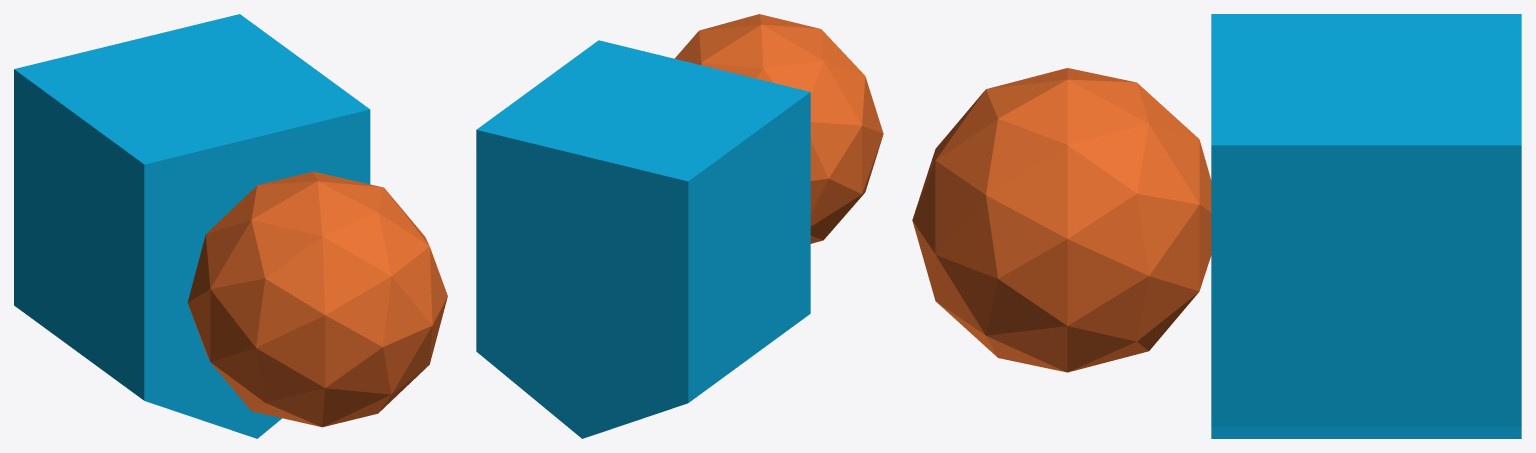
3 views of the same model, side by side, from view 1: azimuth 30°, elevation 25°; view 2: azimuth 150°, elevation 25°; view 3: azimuth 270°, elevation 25° (orthographic). The views are drawn at different scales.
Parts seen in each view (by area): view 1: Cube, Icosphere; view 2: Cube, Icosphere; view 3: Cube, Icosphere.
Part boxes in pixels (x1,y1,x2,y2): Cube: (14,14,370,438); Icosphere: (187,171,447,427); Cube: (476,40,810,438); Icosphere: (675,14,883,243); Cube: (1211,14,1521,438); Icosphere: (912,68,1211,372).
Size of the model in its own units: 7.44 by 9.51 by 14.61.
